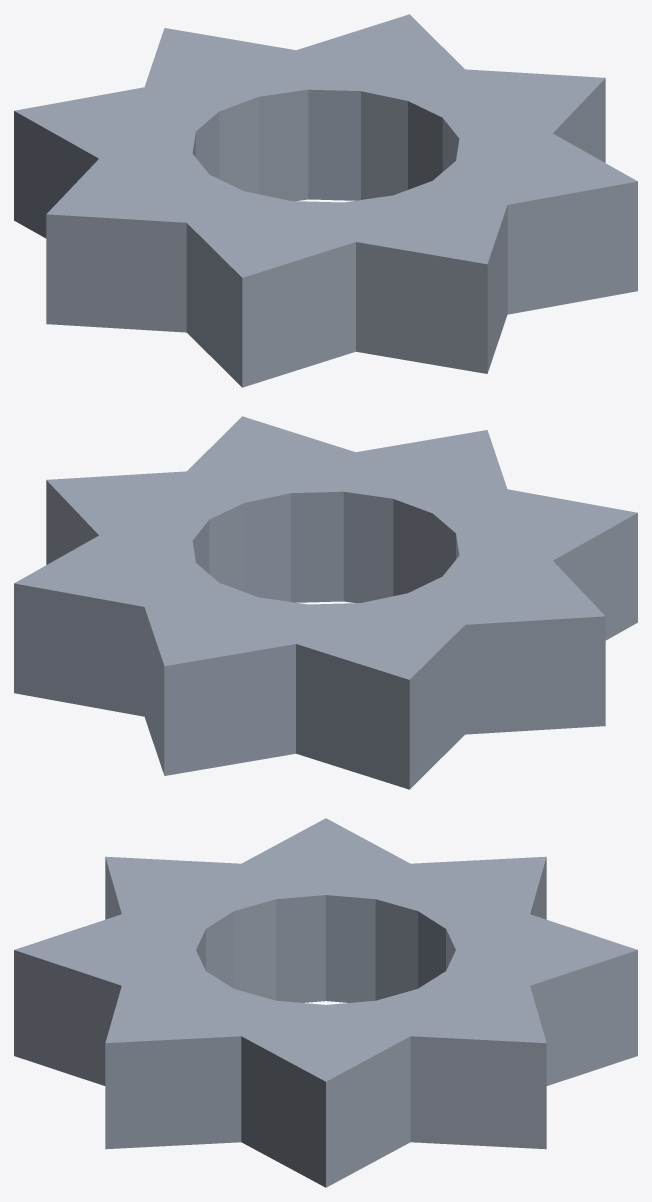
Rendered from metal_gear_small.glb.
The picture shows the model from 3 angles, top to bottom: view 1: azimuth 30°, elevation 25°; view 2: azimuth 150°, elevation 25°; view 3: azimuth 270°, elevation 25°; orthographic projection. The views are drawn at different scales.
Parts seen in each view (by area): view 1: metal_gear_small; view 2: metal_gear_small; view 3: metal_gear_small.
Boxes of the visible parts, bbox=[...] form: metal_gear_small: bbox=[14, 14, 637, 387]; metal_gear_small: bbox=[14, 416, 637, 789]; metal_gear_small: bbox=[14, 818, 637, 1187].
Size of the model in its own units: 0.48 by 0.09 by 0.48.
